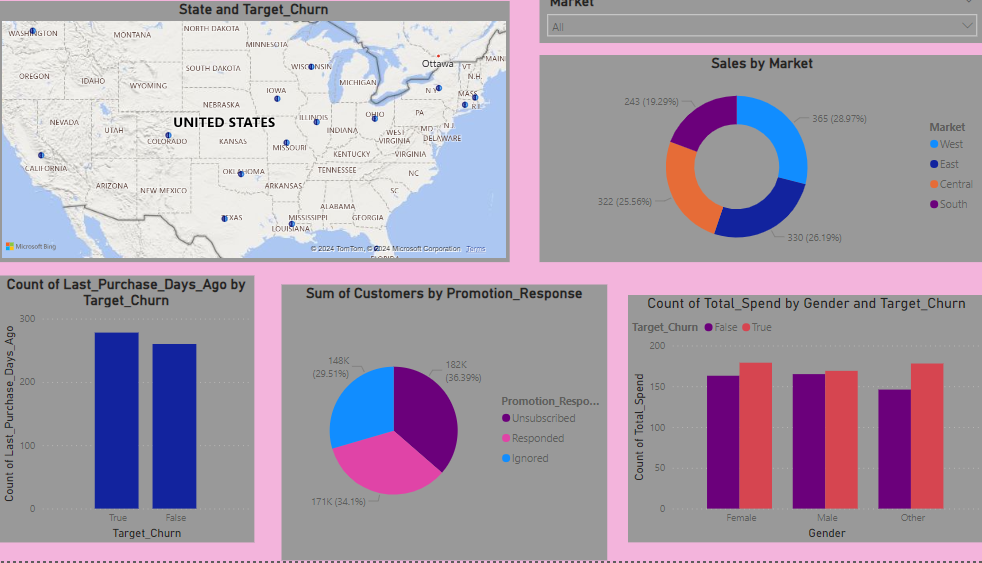

Layout of this report page (visuals, bound fields, positions):
{"tool":"powerbi","page":{"name":"Page 2","canvas":[1280,720],"ordinal":1},"visuals":[{"type":"map","fields":{"Series":["clean_data.Target_Churn"],"Category":["clean_data.State"]},"box":[37.8,15.1,643.8,328.5],"z":0},{"type":"clusteredColumnChart","title":"Count of Last_Purchase_Days_Ago by Target_Churn","fields":{"Y":["Count(online_retail_customer_churn.Last_Purchase_Days_Ago)"],"Category":["online_retail_customer_churn.Target_Churn"]},"box":[37.8,360.6,322.8,336],"z":1000},{"type":"pieChart","title":"Sum of Customers by Promotion_Response","fields":{"Category":["online_retail_customer_churn.Promotion_Response"],"Y":["Sum(online_retail_customer_churn.Customer_ID)"]},"box":[394.6,371.9,409.7,347.4],"z":2000},{"type":"lineClusteredColumnComboChart","fields":{"Category":["online_retail_customer_churn.Gender"],"Series":["online_retail_customer_churn.Target_Churn"],"Y":["Count(online_retail_customer_churn.Total_Spend)"]},"box":[830.7,385.1,449.3,311.5],"z":3000},{"type":"donutChart","title":"Sales by Market","fields":{"Category":["sales.Market"],"Y":["Count(sales.Sales)"]},"box":[719.3,83.1,560.7,260.5],"z":4000},{"type":"slicer","fields":{"Values":["sales.Market"]},"box":[719.3,0,560.7,68],"z":5000}]}

Visuals, with their boxes in screenshot pixels (x1, y1, x2, y2), scaled from the page's 1280x720 canvas onto the 982x563 screenshot:
map - clean_data.Target_Churn x clean_data.State: l=29, t=12, r=523, b=269
"Count of Last_Purchase_Days_Ago by Target_Churn" clusteredColumnChart: l=29, t=282, r=277, b=545
"Sum of Customers by Promotion_Response" pieChart: l=303, t=291, r=617, b=562
lineClusteredColumnComboChart - online_retail_customer_churn.Gender x online_retail_customer_churn.Target_Churn: l=637, t=301, r=981, b=545
"Sales by Market" donutChart: l=552, t=65, r=981, b=269
slicer - sales.Market: l=552, t=0, r=981, b=53
